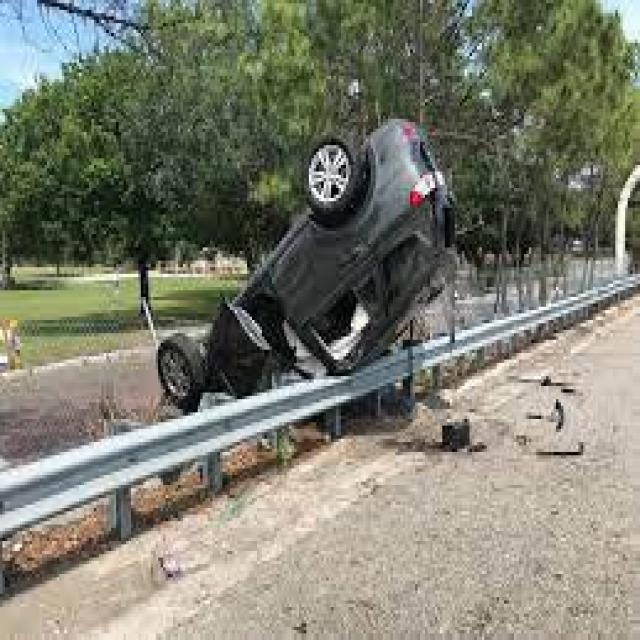severe: (151, 107, 457, 411)
